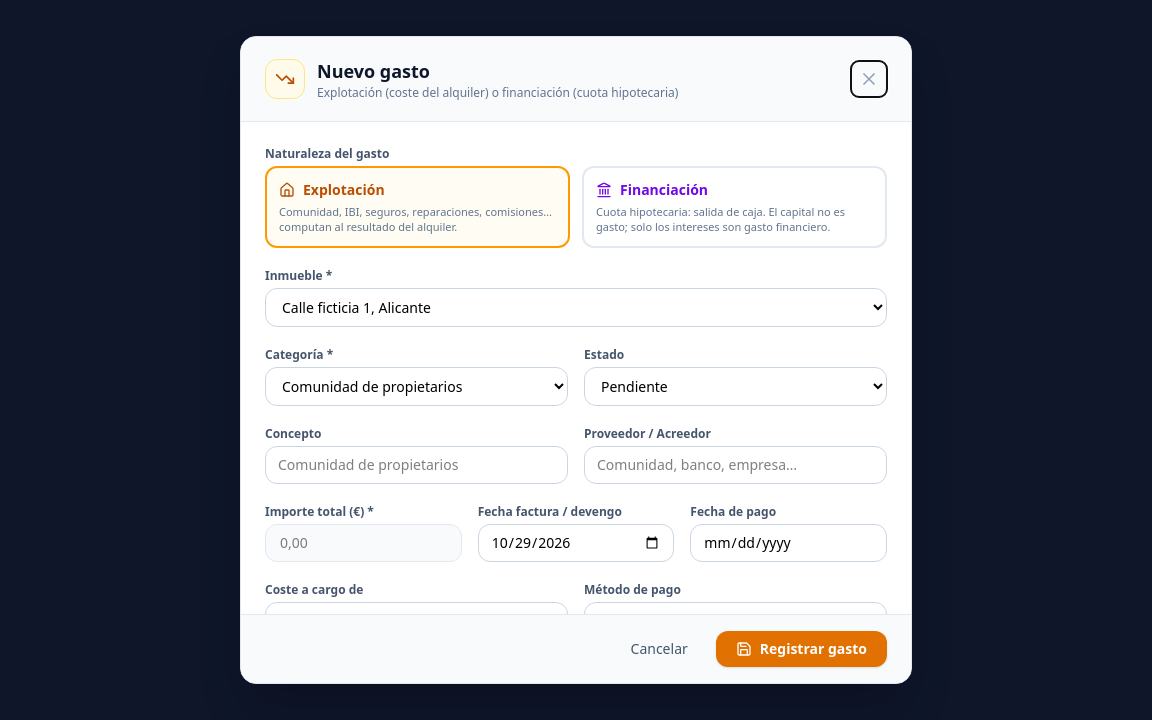
Test case: UX-4 · GastoModal › el error de persistencia se muestra aparte y no se confunde con la validación
The width and height of the screenshot is (1152, 720).
In the number field with placeholder "0,00": (363, 543) [265,524,462,562], type "60"
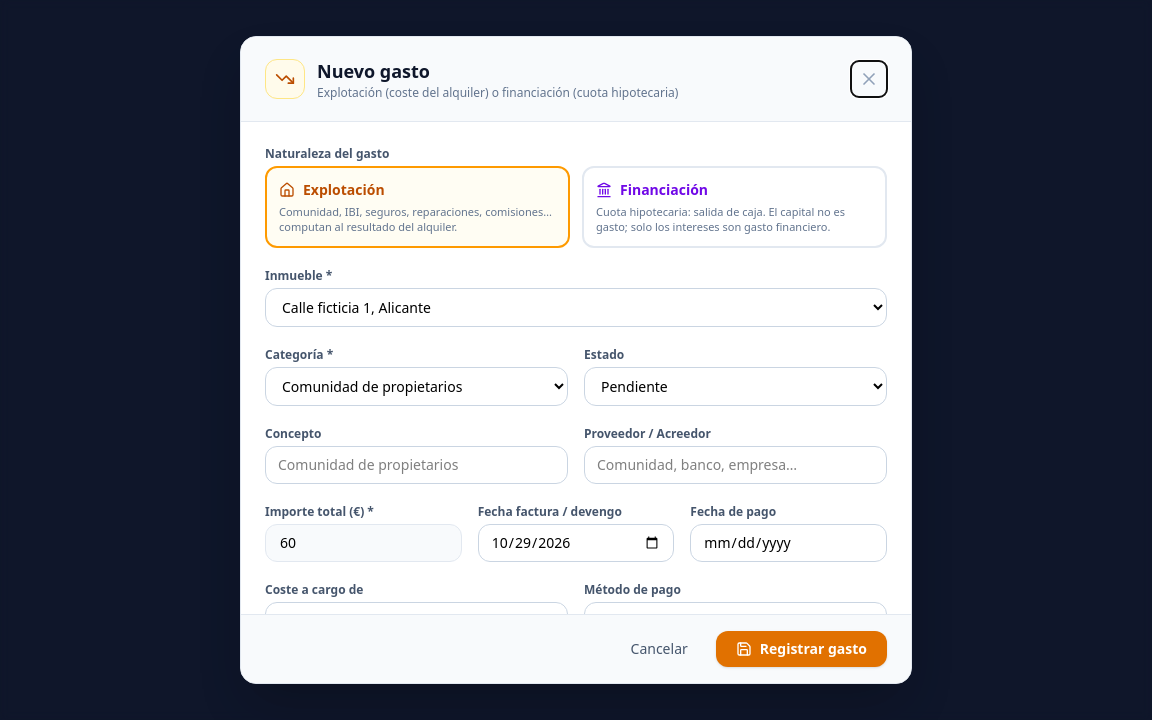
Click the button "Registrar gasto": (801, 649) [716,631,887,667]
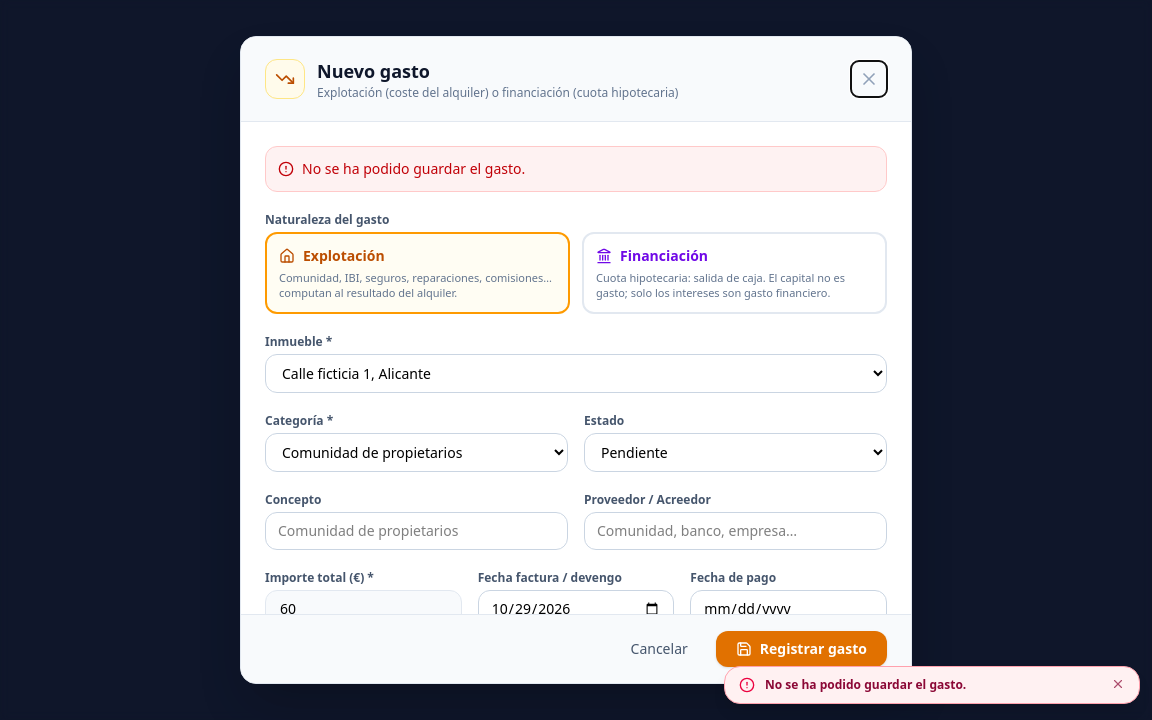
Now the text with test id "error-persistencia-gasto" is shown, box [302,159,525,179]
Now the 2nd text "No se ha podido guardar el gasto." is shown, box [765,676,966,692]
Now the message with test id "aviso-operacion-error" reads "No se ha podido guardar el gasto.", box [765,676,966,692]
